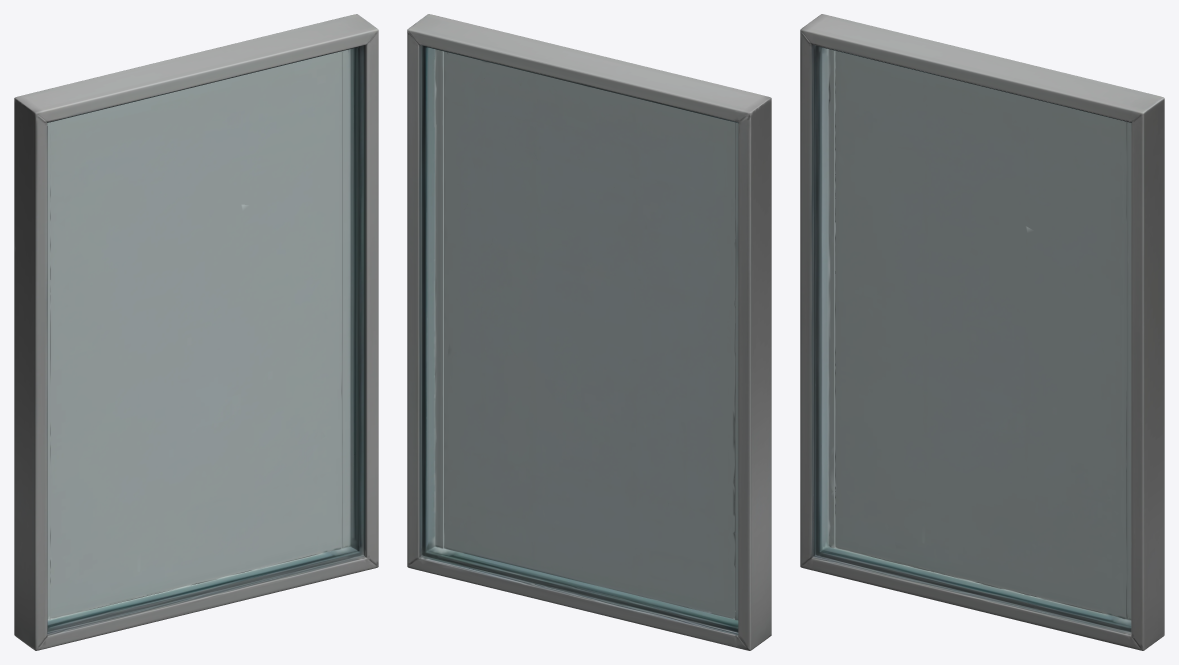
The model's file is glass-frame.glb.
3 views of the same model, side by side, from view 1: azimuth 30°, elevation 25°; view 2: azimuth 150°, elevation 25°; view 3: azimuth 330°, elevation 25° (orthographic).
Parts seen in each view (by area): view 1: node_0; view 2: node_0; view 3: node_0.
Boxes of the visible parts, x1=… form: node_0: x1=14, y1=14, x2=378, y2=650; node_0: x1=407, y1=14, x2=771, y2=650; node_0: x1=800, y1=14, x2=1164, y2=650.
Bounding box in the file's own units: 0.6664 × 0.9977 × 0.074.
1 material, 1 textured.
